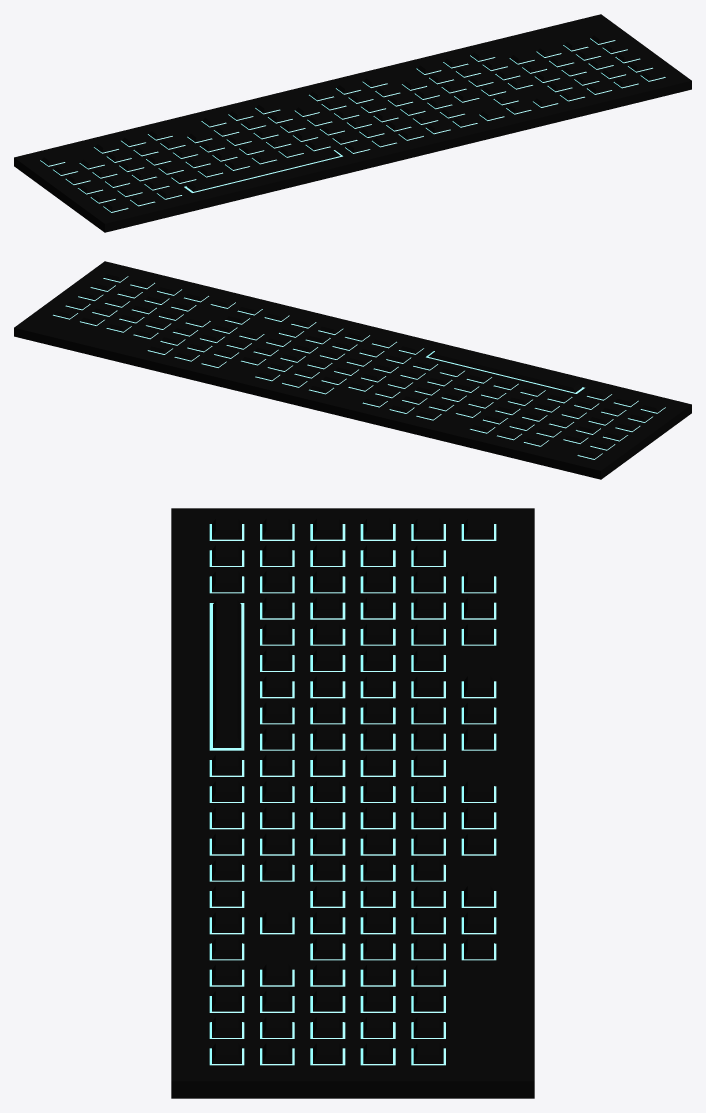
The model's file is keyboard.fbx.
3 renders of one model, top to bottom at view 1: azimuth 30°, elevation 25°; view 2: azimuth 150°, elevation 25°; view 3: azimuth 270°, elevation 25°, orthographic. The views are drawn at different scales.
Visible parts, largest first — view 1: keyboard; view 2: keyboard; view 3: keyboard.
Boxes of the visible parts, left/top/right/bottom form: keyboard: left=14, top=14, right=691, bottom=232; keyboard: left=14, top=261, right=691, bottom=479; keyboard: left=171, top=508, right=534, bottom=1098.
Bounding box in the file's own units: 196 × 4.06 × 52.54.
